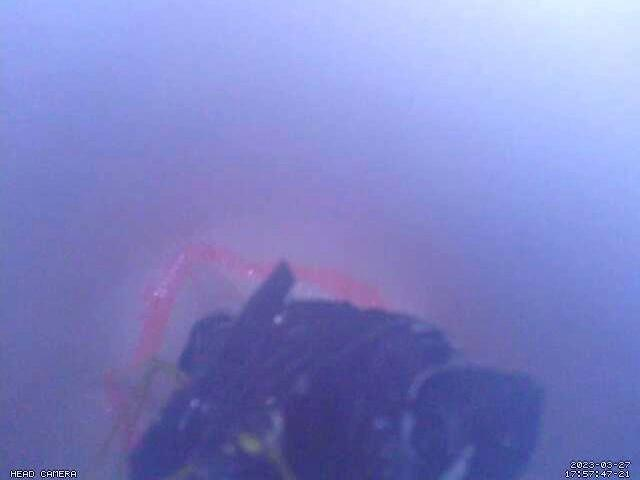head: (102, 242, 386, 450)
